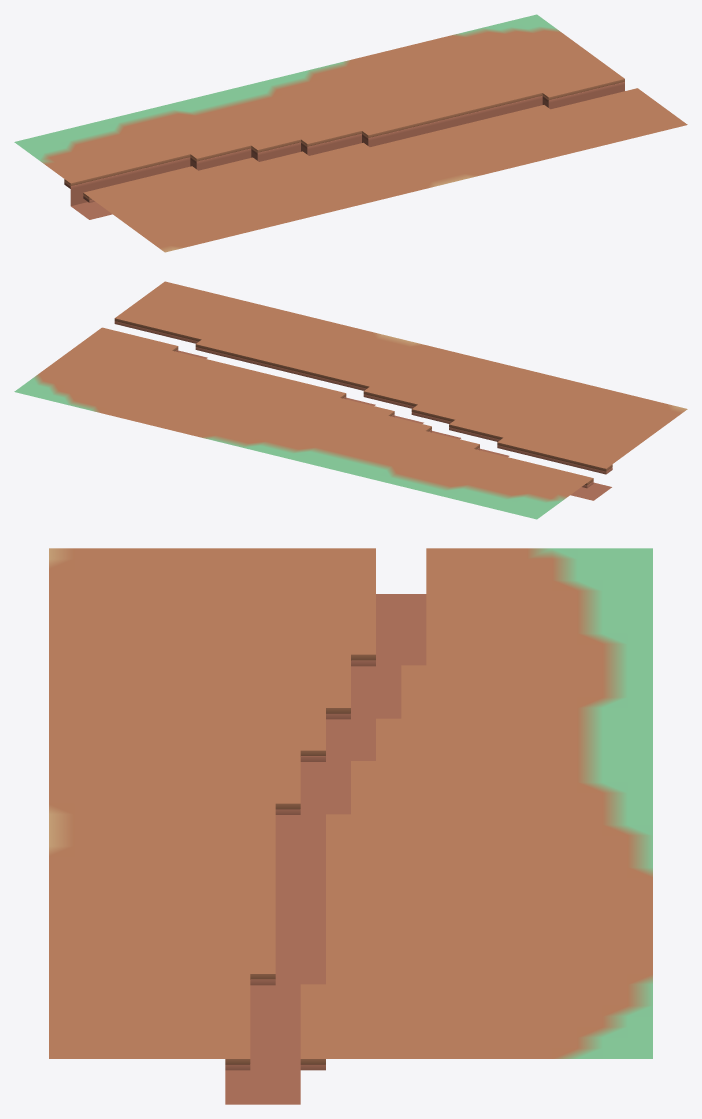
The model's file is Terrain Mesh Optimized.glb.
The picture shows the model from 3 angles, top to bottom: view 1: azimuth 30°, elevation 25°; view 2: azimuth 150°, elevation 25°; view 3: azimuth 270°, elevation 25°; orthographic projection. The views are drawn at different scales.
Parts seen in each view (by area): view 1: square_rockToSand2; view 2: square_rockToSand2; view 3: square_rockToSand2.
Part boxes in pixels (bbox=[...]): square_rockToSand2: bbox=[14, 14, 687, 252]; square_rockToSand2: bbox=[14, 281, 687, 519]; square_rockToSand2: bbox=[49, 548, 652, 1104].
Size of the model in its own units: 96 by 4 by 48.
5 materials, 2 textured.
